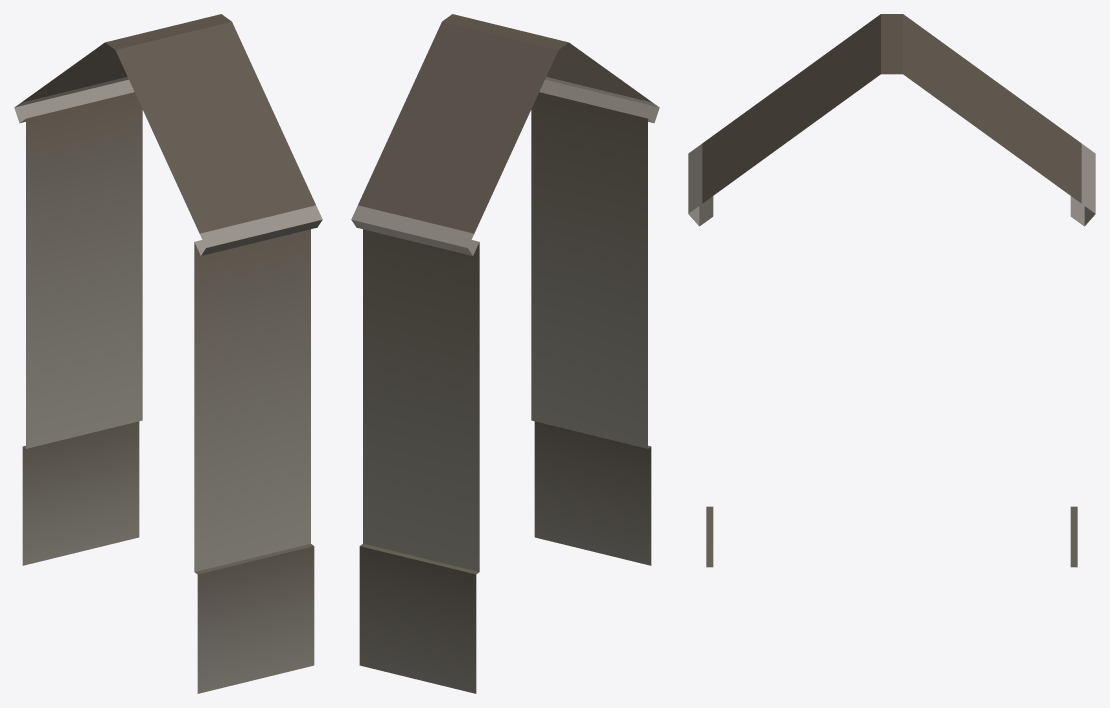
The model's file is Buffer-2Story_A.fbx.
3 views of the same model, side by side, from view 1: azimuth 30°, elevation 25°; view 2: azimuth 150°, elevation 25°; view 3: azimuth 270°, elevation 25° (orthographic). The views are drawn at different scales.
Visible parts, largest first — view 1: Buffer-2Story_A; view 2: Buffer-2Story_A; view 3: Buffer-2Story_A.
Part boxes in pixels (left/top/right/bottom): Buffer-2Story_A: left=14, top=14, right=322, bottom=693; Buffer-2Story_A: left=351, top=14, right=659, bottom=693; Buffer-2Story_A: left=688, top=14, right=1095, bottom=567.
Size of the model in its own units: 200 by 957 by 570.
